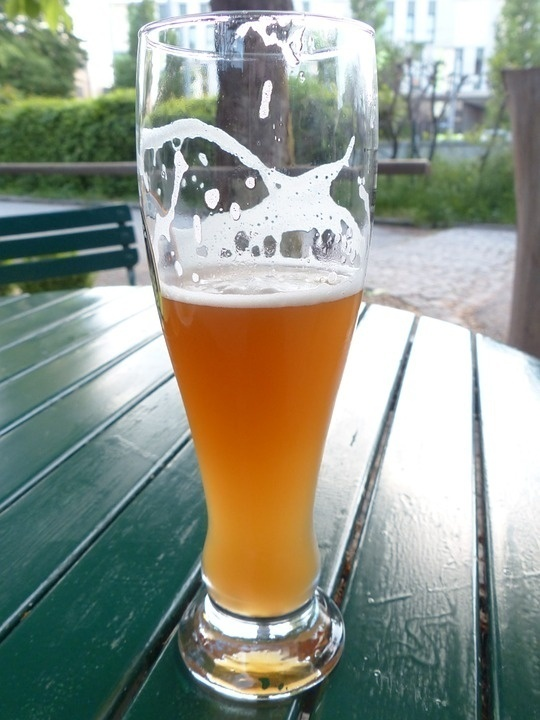whiskey: (126, 24, 385, 680)
